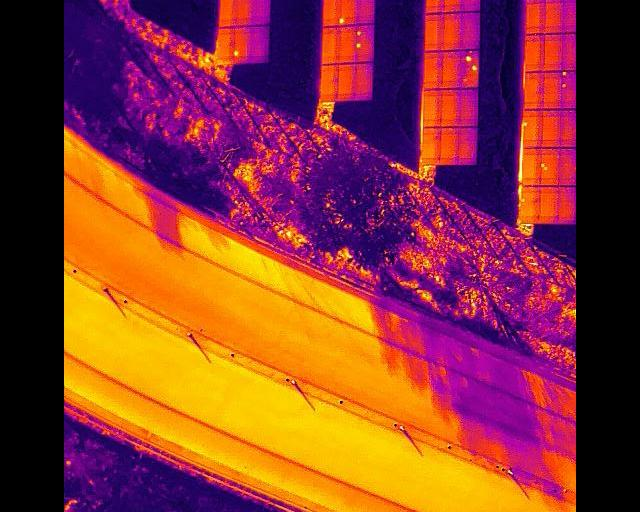Cell: (524, 109, 542, 148), (521, 186, 539, 223), (234, 26, 249, 62), (339, 0, 357, 27)
Cell-Multi: (355, 23, 374, 63), (540, 147, 560, 184), (462, 49, 479, 88), (561, 70, 576, 110)
No-Anomaly: (443, 11, 462, 50), (442, 49, 461, 88), (459, 88, 478, 126), (458, 126, 477, 164), (441, 88, 460, 126), (544, 34, 563, 72), (423, 50, 442, 88), (424, 12, 443, 50), (524, 72, 543, 110), (249, 26, 269, 62), (525, 34, 544, 71), (440, 126, 458, 165), (423, 88, 441, 127), (540, 185, 558, 224), (558, 185, 576, 223), (355, 62, 373, 100), (321, 26, 339, 64), (542, 109, 560, 147), (526, 0, 546, 34), (462, 11, 480, 48), (423, 127, 441, 164), (321, 64, 339, 101), (559, 147, 576, 185), (338, 26, 355, 64), (543, 71, 560, 109), (524, 148, 541, 186), (338, 63, 355, 100), (560, 109, 576, 147), (545, 0, 563, 33), (219, 27, 234, 63), (562, 32, 576, 70), (357, 0, 375, 25), (323, 0, 339, 28), (220, 0, 236, 28), (253, 0, 270, 26), (236, 0, 253, 26), (563, 0, 576, 32), (425, 0, 444, 12), (462, 0, 479, 12), (445, 0, 463, 11)
